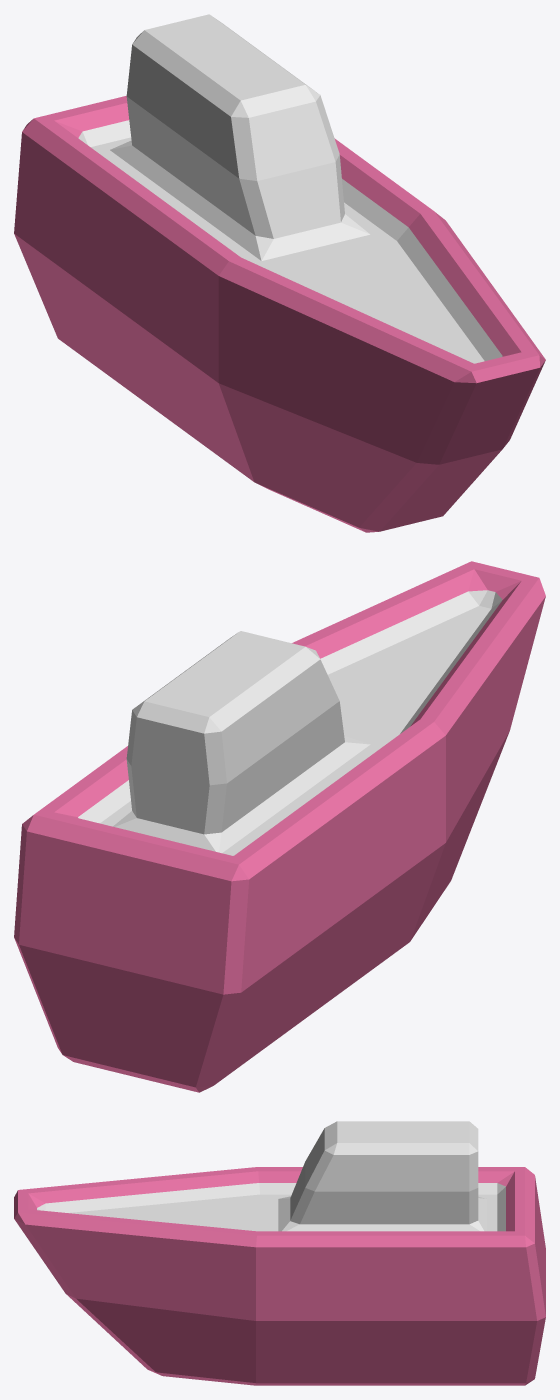
The model's file is Boat.fbx.
3 views of the same model, one above another, from view 1: azimuth 30°, elevation 25°; view 2: azimuth 150°, elevation 25°; view 3: azimuth 270°, elevation 25° (orthographic). The views are drawn at different scales.
Parts seen in each view (by area): view 1: F_Boat; view 2: F_Boat; view 3: F_Boat.
Boxes of the visible parts, bbox=[...] form: F_Boat: bbox=[14, 14, 545, 532]; F_Boat: bbox=[14, 561, 545, 1092]; F_Boat: bbox=[14, 1121, 545, 1385].
Size of the model in its own units: 200 by 285 by 591.
